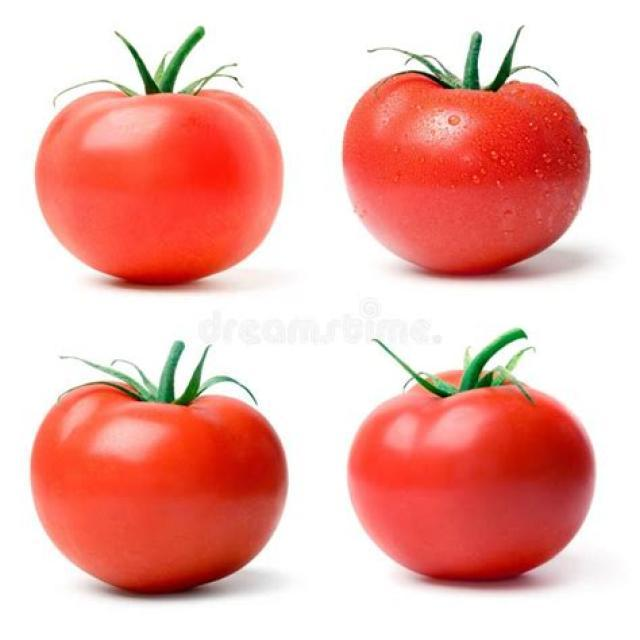Tomato: (346, 330, 597, 585), (29, 364, 291, 597), (341, 72, 592, 278), (34, 86, 286, 288)
